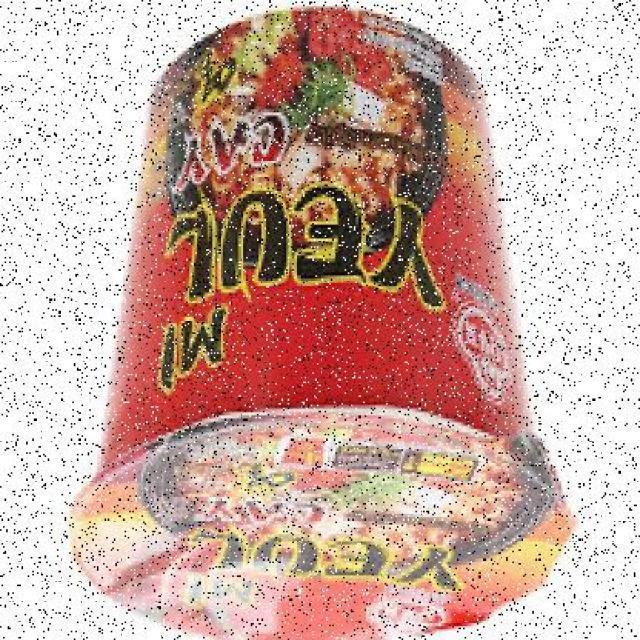Miscellaneous: (86, 20, 568, 640)
